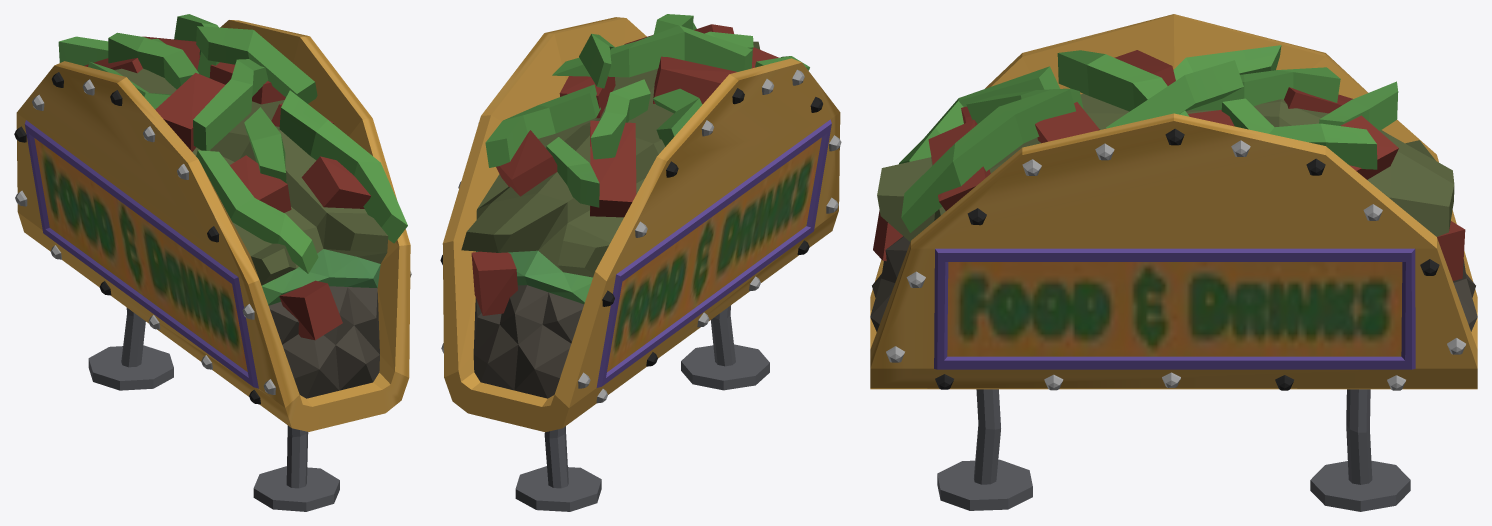
Rendered from SM_Prop_Sign_Taco_01.glb.
3 views of the same model, side by side, from view 1: azimuth 30°, elevation 25°; view 2: azimuth 150°, elevation 25°; view 3: azimuth 270°, elevation 25° (orthographic). The views are drawn at different scales.
Visible parts, largest first — view 1: SM_Prop_Sign_Taco_01; view 2: SM_Prop_Sign_Taco_01; view 3: SM_Prop_Sign_Taco_01.
Part boxes in pixels (<box>): SM_Prop_Sign_Taco_01: <box>14,14,411,511</box>; SM_Prop_Sign_Taco_01: <box>440,14,841,511</box>; SM_Prop_Sign_Taco_01: <box>870,14,1477,511</box>.
Bounding box in the file's own units: 94.1 × 172 × 214.
1 material, 1 textured.
